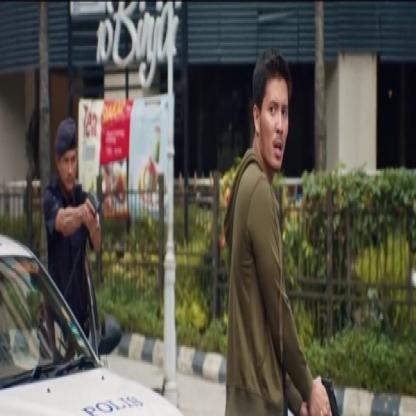Guns: (318, 368, 343, 414), (85, 184, 101, 217)
